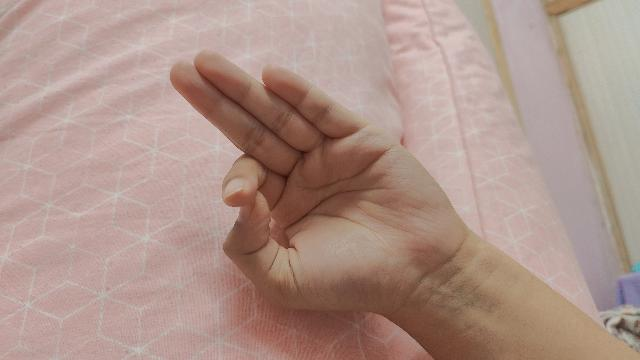aral: (168, 52, 640, 360)
